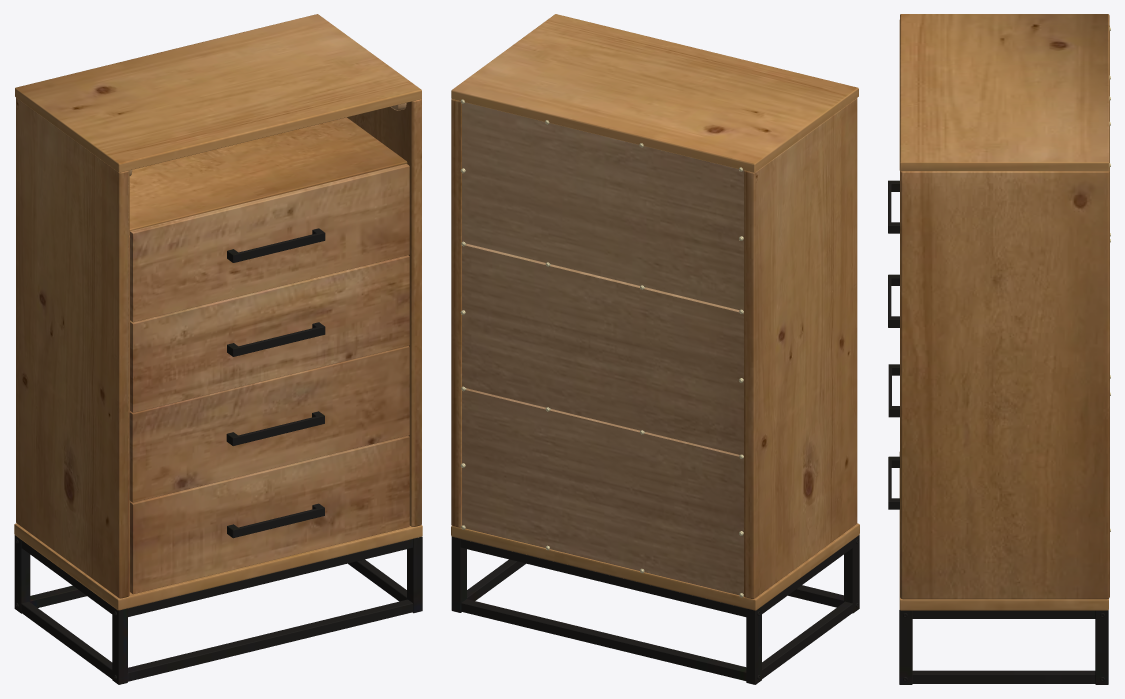
The model's file is B075YZYJQN.glb.
3 renders of one model, left to right at view 1: azimuth 30°, elevation 25°; view 2: azimuth 150°, elevation 25°; view 3: azimuth 270°, elevation 25°, orthographic.
Parts seen in each view (by area): view 1: RootNode; view 2: RootNode; view 3: RootNode.
Boxes of the visible parts, x1,y1,x2,y2 form: RootNode: (14, 14, 422, 684); RootNode: (451, 14, 859, 684); RootNode: (888, 14, 1110, 684).
Bounding box in the file's own units: 0.7615 × 1.24 × 0.4791.
1 material, 1 textured.
